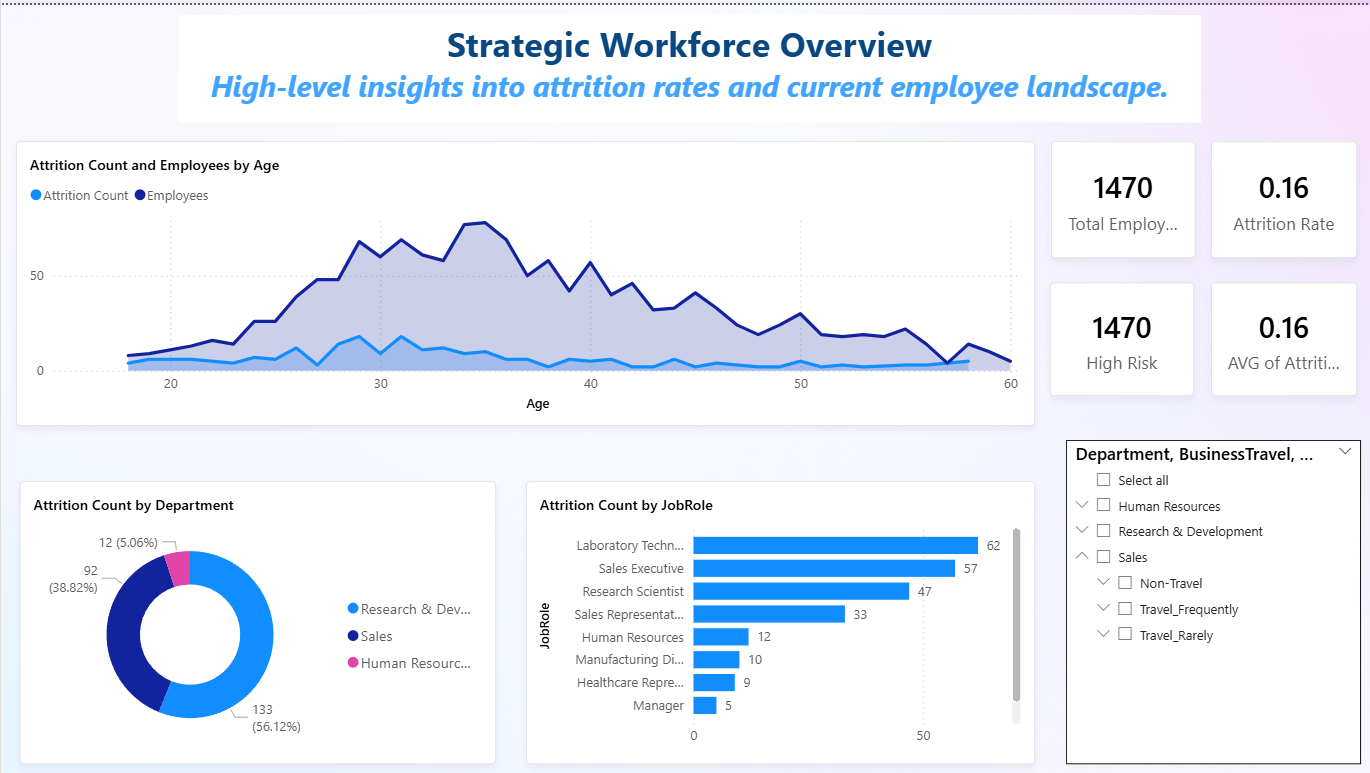

This screenshot's page, from the dashboard's own definition file:
{"tool":"powerbi","page":{"name":"Page 1","canvas":[1280,720],"ordinal":0},"visuals":[{"type":"card","fields":{"Values":["HR_Final_Dashboard_Data.Total Employees"]},"box":[977,126.2,134.5,108.4],"z":0},{"type":"card","fields":{"Values":["HR_Final_Dashboard_Data.Attrition Rate"]},"box":[1125.2,126.2,135.8,108.4],"z":1000},{"type":"card","fields":{"Values":["Avg(HR_Final_Dashboard_Data.Attrition_Risk_Score)"]},"box":[1125.2,258,135.8,105.7],"z":2000},{"type":"card","fields":{"Values":["CountNonNull(HR_Final_Dashboard_Data.Prediction_Label)"]},"box":[975.6,258,134.5,105.7],"z":3000},{"type":"slicer","fields":{"Values":["HR_Final_Dashboard_Data.Department","HR_Final_Dashboard_Data.BusinessTravel","HR_Final_Dashboard_Data.Gender"]},"box":[990.7,404.8,274.4,301.9],"z":4000},{"type":"donutChart","fields":{"Y":["HR_Final_Dashboard_Data.Attrition Count"],"Category":["HR_Final_Dashboard_Data.Department"]},"box":[17.8,443.2,443.2,263.5],"z":5000},{"type":"lineChart","fields":{"Category":["HR_Final_Dashboard_Data.Age"],"Y":["HR_Final_Dashboard_Data.Attrition Count","CountNonNull(HR_Final_Dashboard_Data.Employee ID)"]},"box":[13.7,126.2,948.2,264.8],"z":6000},{"type":"barChart","fields":{"Category":["HR_Final_Dashboard_Data.JobRole"],"Y":["HR_Final_Dashboard_Data.Attrition Count"]},"box":[488.5,443.2,473.4,263.5],"z":7000},{"type":"textbox","box":[164.7,9.6,950.9,100.2],"z":8000}]}

Visuals, with their boxes in screenshot pixels (x1, y1, x2, y2), scaled from the page's 1280x720 canvas onto the 1370x773 screenshot:
card - HR_Final_Dashboard_Data.Total Employees: (1046, 135, 1190, 252)
card - HR_Final_Dashboard_Data.Attrition Rate: (1204, 135, 1350, 252)
card - Avg(HR_Final_Dashboard_Data.Attrition_Risk_Score): (1204, 277, 1350, 390)
card - CountNonNull(HR_Final_Dashboard_Data.Prediction_Label): (1044, 277, 1188, 390)
slicer - HR_Final_Dashboard_Data.Department x HR_Final_Dashboard_Data.BusinessTravel: (1060, 435, 1354, 759)
donutChart - HR_Final_Dashboard_Data.Attrition Count x HR_Final_Dashboard_Data.Department: (19, 476, 493, 759)
lineChart - HR_Final_Dashboard_Data.Age x HR_Final_Dashboard_Data.Attrition Count: (15, 135, 1030, 420)
barChart - HR_Final_Dashboard_Data.JobRole x HR_Final_Dashboard_Data.Attrition Count: (523, 476, 1030, 759)
textbox: (176, 10, 1194, 118)
